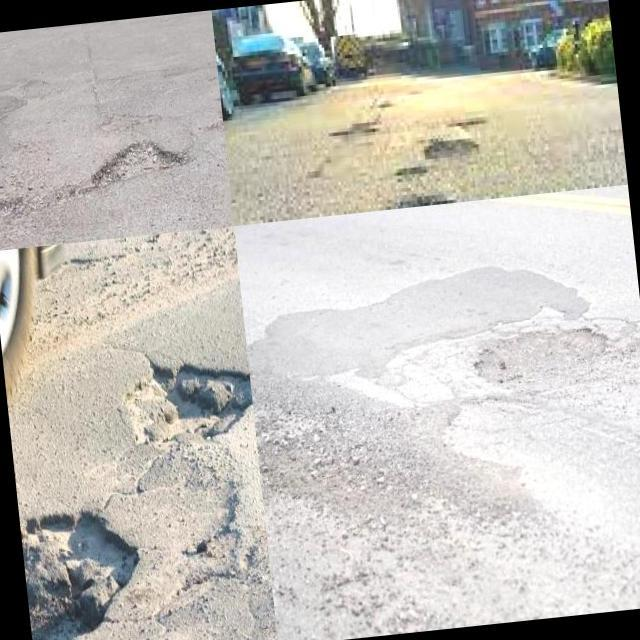Pothole: (474, 328, 640, 435), (20, 512, 137, 640), (124, 365, 252, 445), (91, 137, 185, 187)
